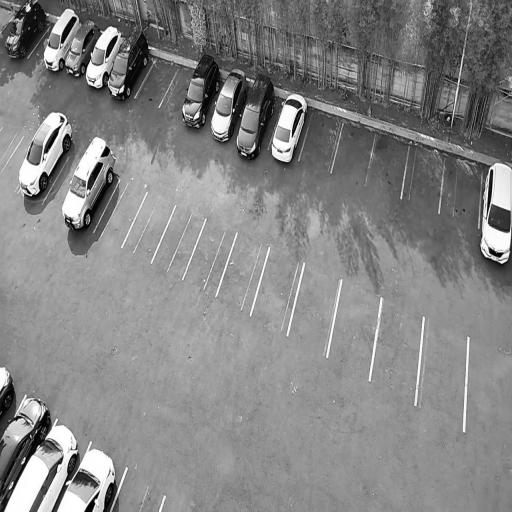Car: (2, 406, 88, 512), (55, 129, 124, 236), (11, 104, 80, 207), (0, 386, 56, 512), (52, 434, 125, 512), (231, 63, 281, 165), (103, 22, 155, 103), (265, 83, 313, 169), (179, 47, 225, 136), (206, 62, 253, 149), (476, 157, 512, 270), (38, 4, 84, 74), (82, 23, 126, 91), (2, 0, 51, 61), (60, 15, 104, 81), (0, 363, 20, 426)
Space Available: (416, 316, 468, 430), (370, 298, 424, 403), (327, 279, 381, 378), (288, 263, 342, 355), (251, 246, 304, 335), (216, 232, 269, 315), (182, 218, 237, 297), (151, 205, 206, 280), (122, 190, 176, 263), (92, 178, 147, 246), (439, 157, 482, 228), (402, 147, 445, 213), (331, 122, 376, 185), (298, 110, 343, 172), (367, 133, 409, 198), (110, 467, 165, 512), (134, 58, 178, 107), (42, 155, 80, 211), (0, 135, 32, 183), (160, 69, 194, 112), (0, 127, 23, 175), (28, 21, 56, 59)
